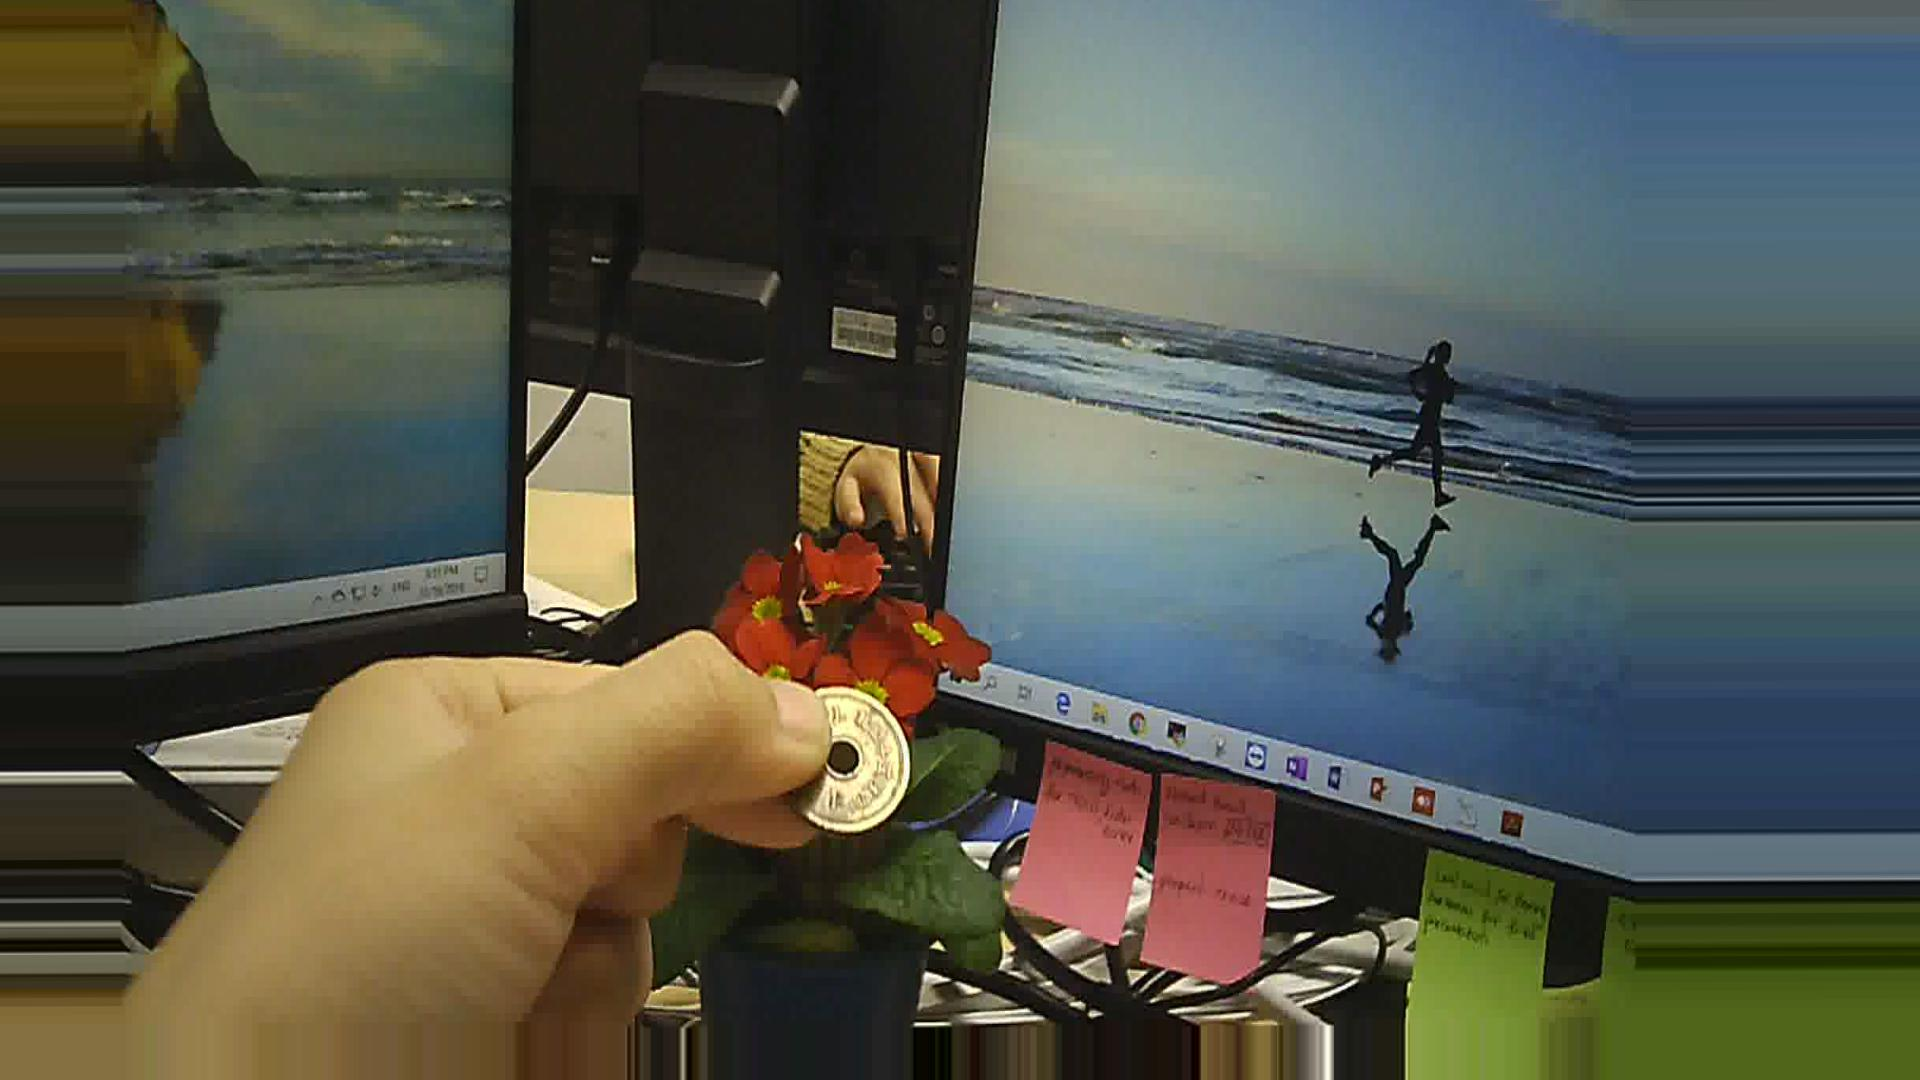5 Yen: (771, 673, 930, 836)
